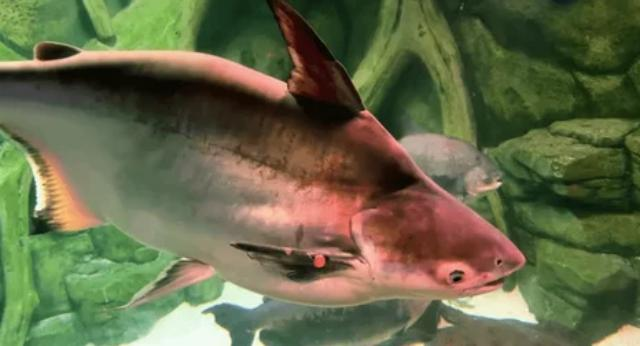Mulut: (466, 238, 540, 302)
Sirip Anal: (1, 117, 107, 234)
Sirip Dada: (228, 233, 366, 293)
Sirip Perut: (117, 248, 216, 314)
Sirip Punggung: (254, 1, 370, 110)
